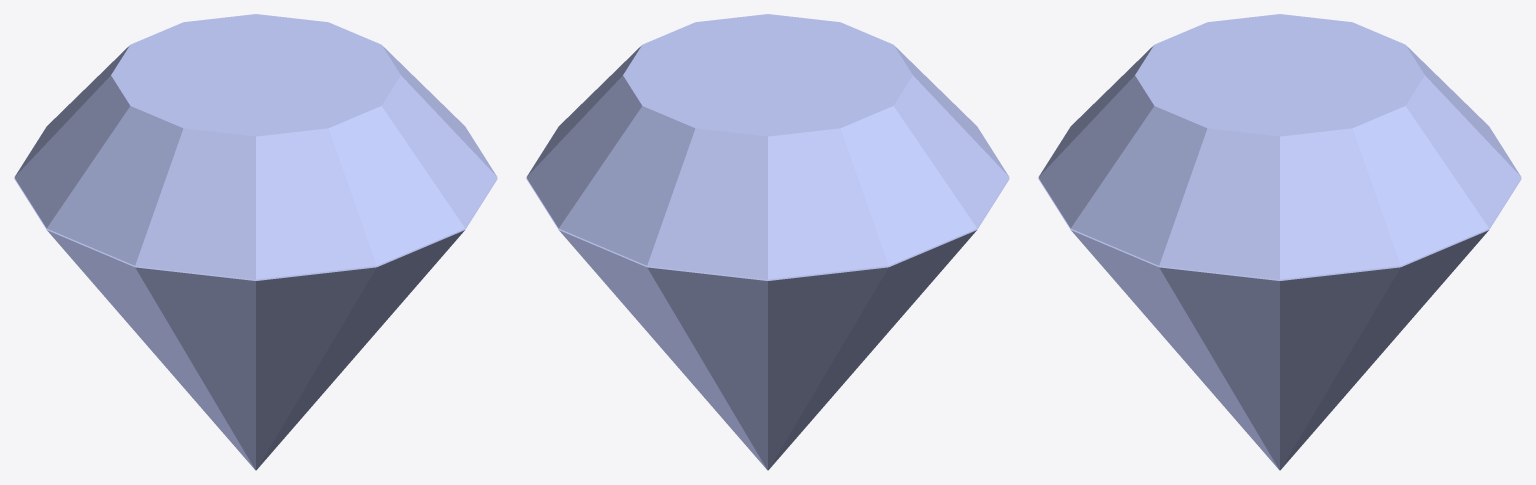
The model's file is gem.fbx.
3 views of the same model, side by side, from view 1: azimuth 30°, elevation 25°; view 2: azimuth 150°, elevation 25°; view 3: azimuth 270°, elevation 25° (orthographic).
Parts seen in each view (by area): view 1: gem.Main; view 2: gem.Main; view 3: gem.Main.
Boxes of the visible parts, box(x1,y1,x2,y2) form: gem.Main: box(14, 14, 497, 470); gem.Main: box(526, 14, 1009, 470); gem.Main: box(1038, 14, 1521, 470).
Bounding box in the file's own units: 1.5 × 1.36 × 1.5.
